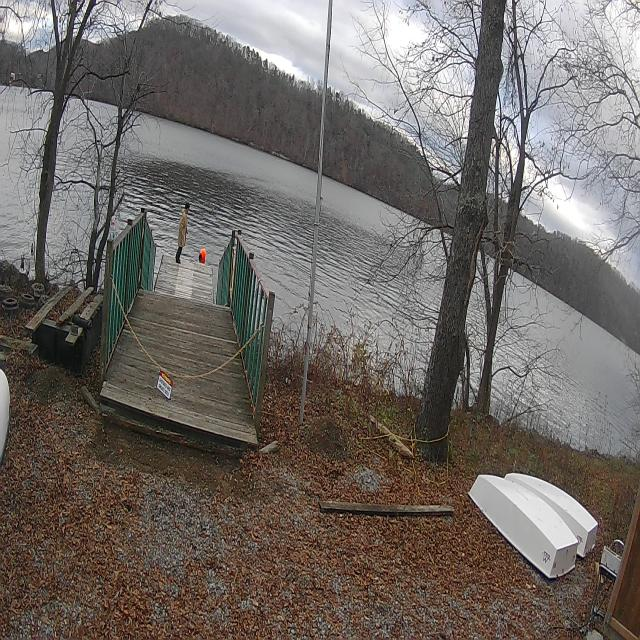Buoy: (197, 246, 208, 264)
